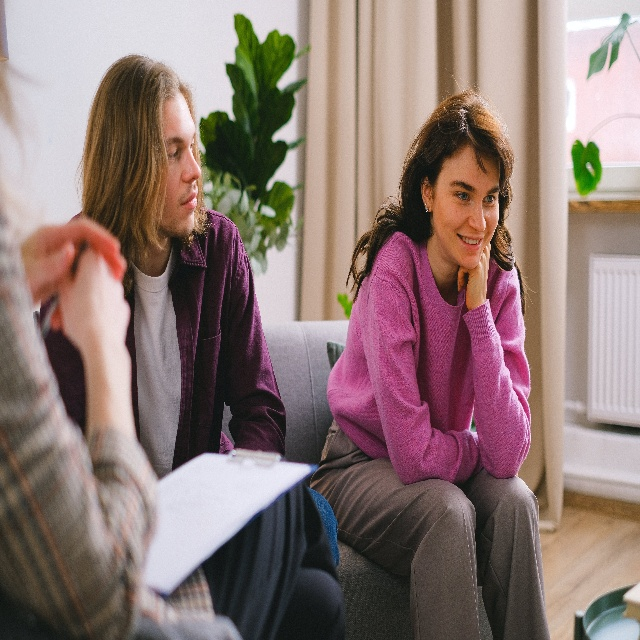Sin_guantes: (22, 209, 132, 308), (55, 255, 134, 353), (456, 243, 493, 305)
